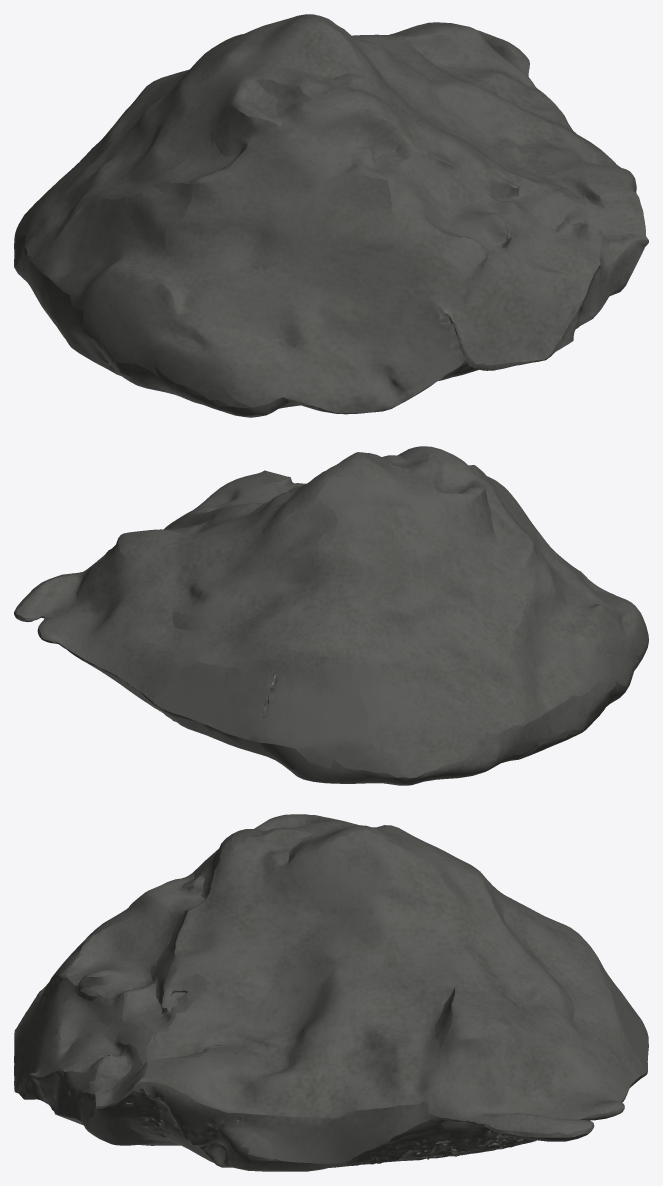
3 views of the same model, one above another, from view 1: azimuth 30°, elevation 25°; view 2: azimuth 150°, elevation 25°; view 3: azimuth 270°, elevation 25° (orthographic). The views are drawn at different scales.
Parts seen in each view (by area): view 1: world; view 2: world; view 3: world.
Part boxes in pixels (bbox=[...]): world: bbox=[14, 14, 648, 417]; world: bbox=[14, 446, 648, 785]; world: bbox=[14, 814, 648, 1171].
Bounding box in the file's own units: 1.2 × 0.5579 × 1.2.
1 material, 1 textured.
